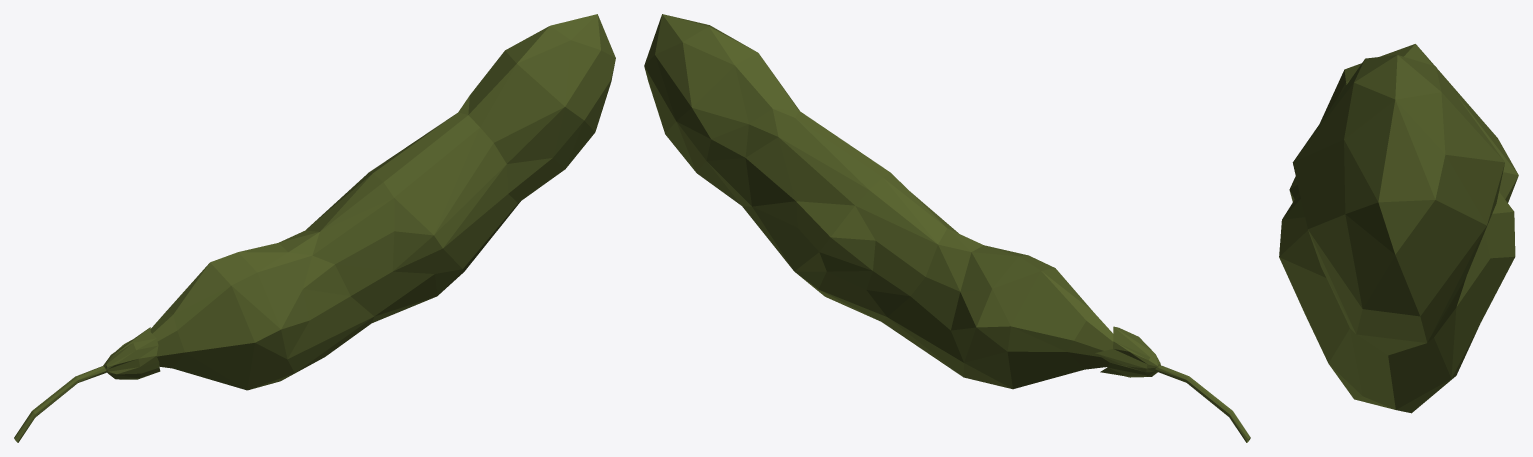
The model's file is SoybeanPod_optim.obj.
3 views of the same model, side by side, from view 1: azimuth 30°, elevation 25°; view 2: azimuth 150°, elevation 25°; view 3: azimuth 270°, elevation 25° (orthographic). The views are drawn at different scales.
Parts seen in each view (by area): view 1: fruit, sepal; view 2: fruit, sepal; view 3: fruit.
Part boxes in pixels (x1,y1,x2,y2): fruit: [150, 14, 615, 390]; sepal: [14, 327, 160, 442]; fruit: [644, 14, 1113, 389]; sepal: [1095, 326, 1250, 442]; fruit: [1279, 44, 1518, 413].
Size of the model in its own units: 1.09 by 0.5013 by 0.1893.
